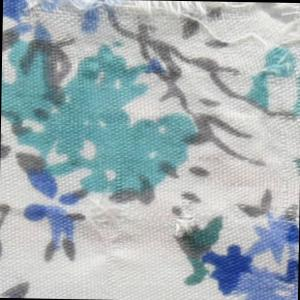Damage: (2, 1, 300, 76), (75, 189, 145, 274), (171, 198, 203, 242)
